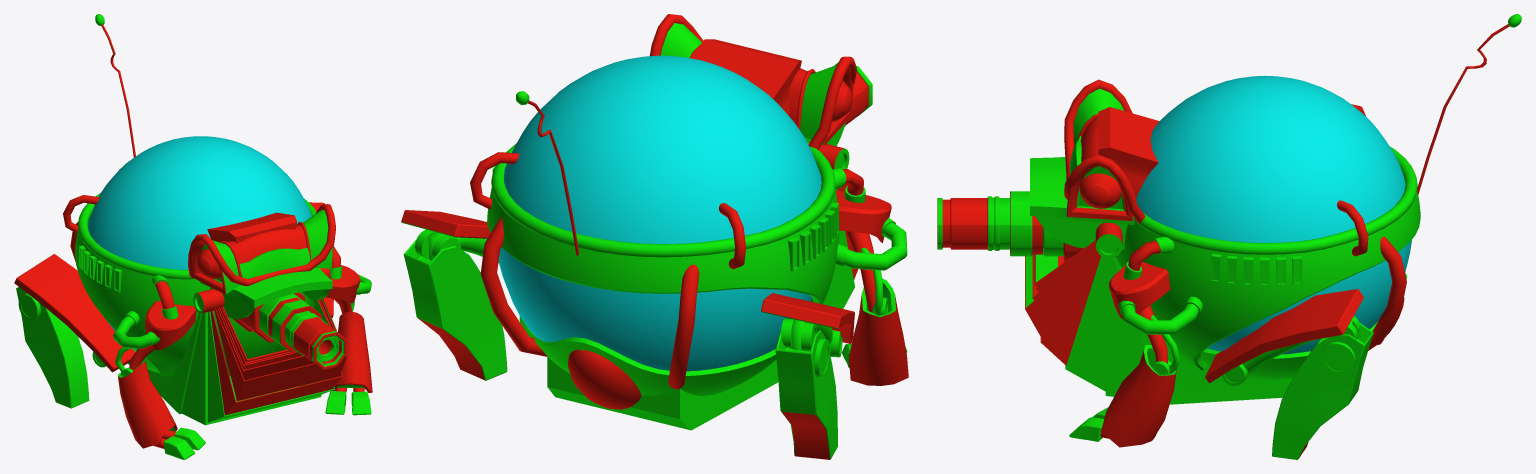
Rendered from frog_boss_test_texture.fbx.
The picture shows the model from 3 angles, left to right: view 1: azimuth 30°, elevation 25°; view 2: azimuth 150°, elevation 25°; view 3: azimuth 270°, elevation 25°; orthographic projection. The views are drawn at different scales.
Visible parts, largest first — view 1: frog_boss; view 2: frog_boss; view 3: frog_boss.
Part boxes in pixels (<box>): frog_boss: <box>14,14,372,459</box>; frog_boss: <box>401,14,908,459</box>; frog_boss: <box>937,14,1521,459</box>.
Bounding box in the file's own units: 900 × 814 × 1179.
